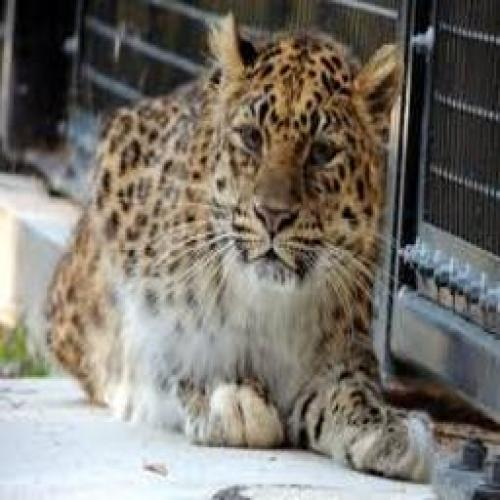amur_leopard-endangered: (43, 18, 434, 484)
